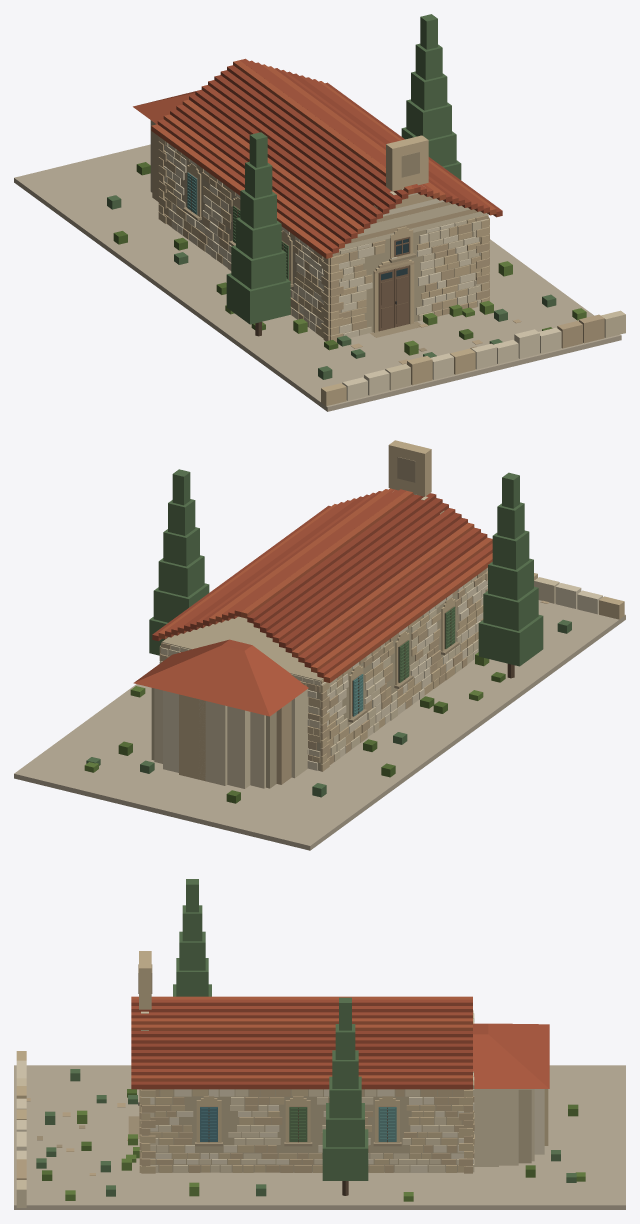
The model's file is eski-kilise.glb.
3 views of the same model, one above another, from view 1: azimuth 30°, elevation 25°; view 2: azimuth 150°, elevation 25°; view 3: azimuth 270°, elevation 25° (orthographic). The views are drawn at different scales.
Parts seen in each view (by area): view 1: zemin, kiremit4, yesil_kepenk, tas2, kiremit2, tas4, kiremit1, tas3, tas1, harc, ahsap, asma (+3 smaller); view 2: zemin, kiremit2, kiremit4, yesil_kepenk, tas1, kiremit1, tas2, tas4, harc, tas3, asma2, zeytin (+1 smaller); view 3: zemin, kiremit2, yesil_kepenk, kiremit4, tas2, tas1, harc, kiremit1, tas3, tas4, zeytin, asma (+4 smaller).
Part boxes in pixels (x1=…): zemin: x1=14, y1=144, x2=621, y2=411; kiremit4: x1=170, y1=65, x2=502, y2=243; yesil_kepenk: x1=226, y1=14, x2=461, y2=324; tas2: x1=158, y1=135, x2=489, y2=406; kiremit2: x1=133, y1=58, x2=489, y2=253; tas4: x1=159, y1=152, x2=561, y2=400; kiremit1: x1=151, y1=60, x2=496, y2=258; tas3: x1=152, y1=121, x2=604, y2=364; tas1: x1=163, y1=142, x2=625, y2=390; harc: x1=150, y1=120, x2=487, y2=335; ahsap: x1=188, y1=172, x2=410, y2=331; asma: x1=225, y1=261, x2=586, y2=355; zemin: x1=14, y1=600, x2=625, y2=850; kiremit2: x1=133, y1=489, x2=492, y2=716; kiremit4: x1=152, y1=491, x2=487, y2=668; yesil_kepenk: x1=149, y1=469, x2=543, y2=682; tas1: x1=154, y1=491, x2=559, y2=788; kiremit1: x1=158, y1=488, x2=492, y2=682; tas2: x1=159, y1=440, x2=624, y2=781; tas4: x1=161, y1=494, x2=602, y2=772; harc: x1=151, y1=578, x2=486, y2=788; tas3: x1=159, y1=568, x2=548, y2=784; asma2: x1=118, y1=672, x2=505, y2=803; zeytin: x1=86, y1=619, x2=571, y2=797; zemin: x1=14, y1=1065, x2=625, y2=1209; kiremit2: x1=131, y1=999, x2=549, y2=1088; yesil_kepenk: x1=173, y1=879, x2=368, y2=1180; kiremit4: x1=131, y1=1031, x2=472, y2=1089; tas2: x1=16, y1=951, x2=548, y2=1173; tas1: x1=16, y1=1010, x2=534, y2=1207; harc: x1=150, y1=1089, x2=531, y2=1172; kiremit1: x1=131, y1=996, x2=472, y2=1081; tas3: x1=16, y1=1071, x2=474, y2=1179; tas4: x1=16, y1=1060, x2=544, y2=1172; zeytin: x1=36, y1=1069, x2=576, y2=1196; asma: x1=65, y1=1110, x2=585, y2=1201.
Size of the model in its own units: 13.25 by 8.6 by 24.
